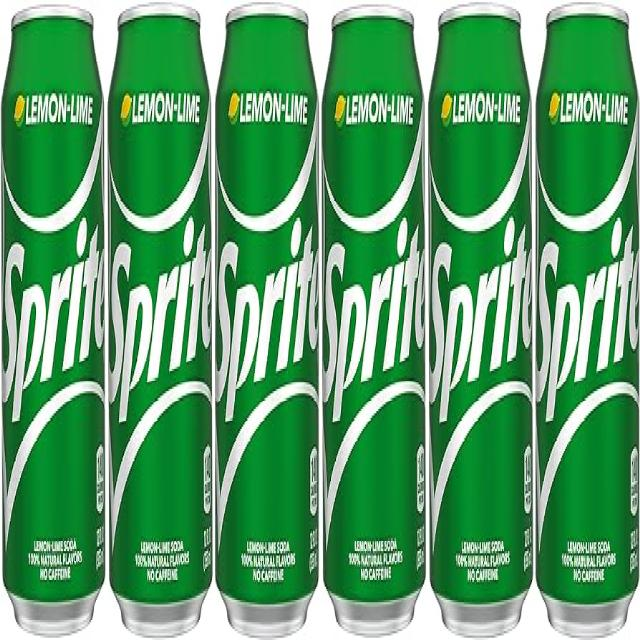sprite: (422, 6, 536, 640), (528, 0, 640, 640), (315, 6, 428, 640), (104, 9, 218, 634), (212, 0, 320, 640), (1, 8, 110, 638)
